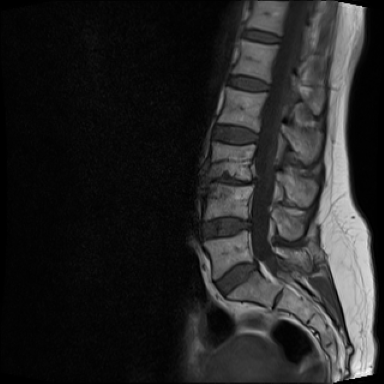Degenerative Disc Disease (DDD): (200, 173, 263, 189)
Lumbar Disc Bulge (LDB): (210, 253, 264, 301), (199, 215, 257, 244)
Normal IVD: (211, 120, 260, 149), (226, 70, 274, 95), (240, 26, 284, 46)
Spinal Stenosis (SS): (251, 251, 263, 278), (247, 173, 266, 190), (244, 213, 256, 235)
